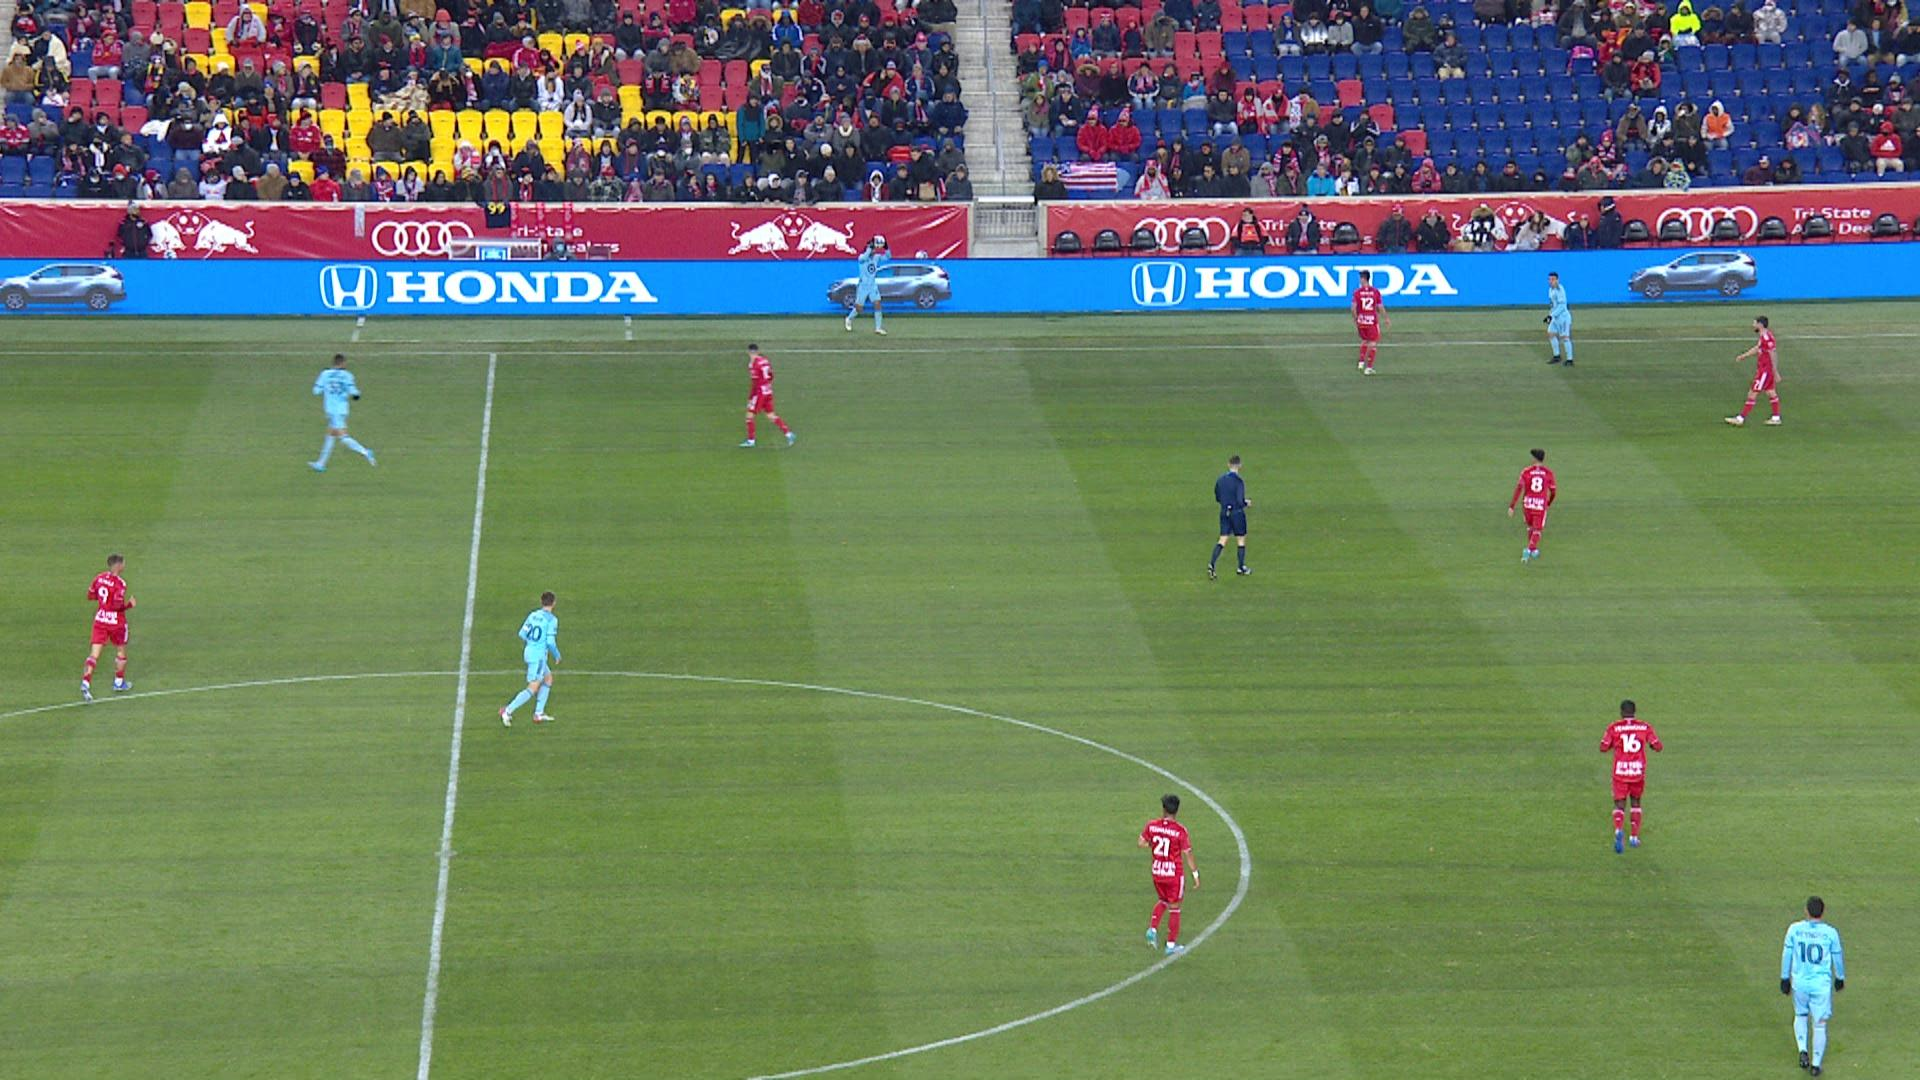football: (873, 235, 885, 248)
